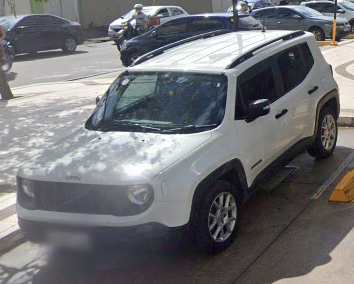car: (16, 26, 340, 253)
